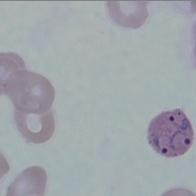Infected: (148, 109, 194, 157)
Uninfected: (5, 70, 55, 113), (12, 101, 55, 143)
